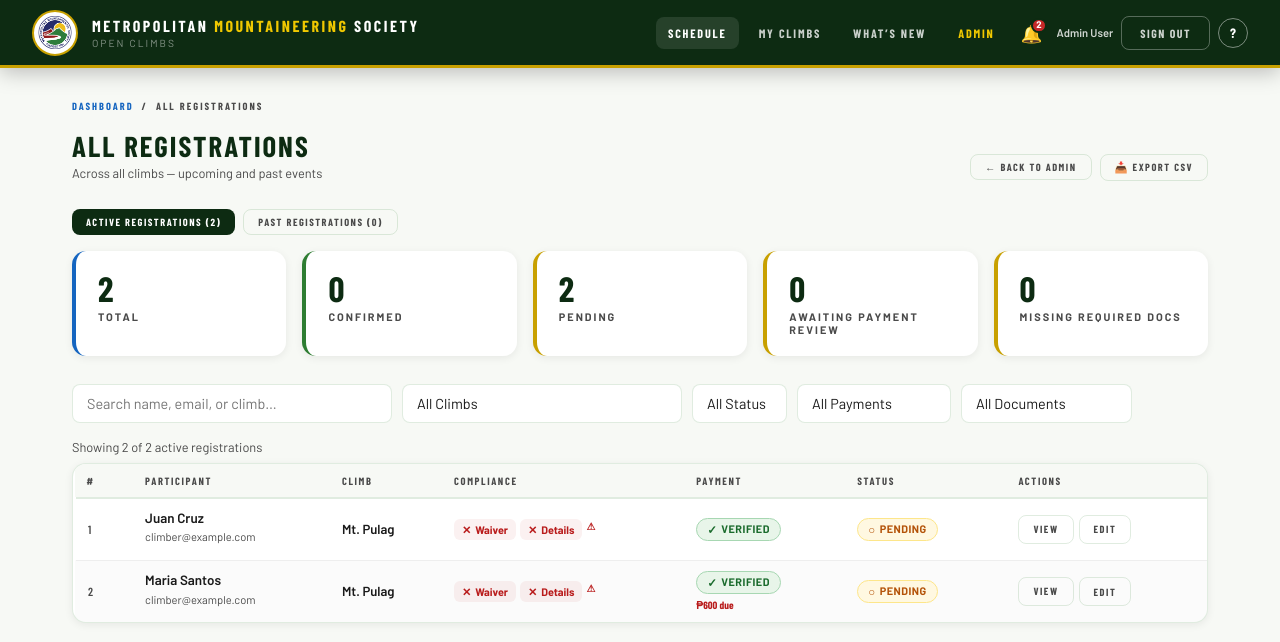
Test: Admin AllRegistrations › 'Has Balance Due' catches an underpaid registrant even when marked verified
This screenshot has width=1280, height=642.
Expected: the text "Juan Cruz" is shown, top-left (145, 510), bottom-right (204, 526)
Expected: the text "Maria Santos" is shown, top-left (145, 572), bottom-right (221, 588)
Select "Has Balance Due" in the 3rd dropdown with class "form-select" at [874, 404], box top-left (797, 384), bottom-right (951, 423)
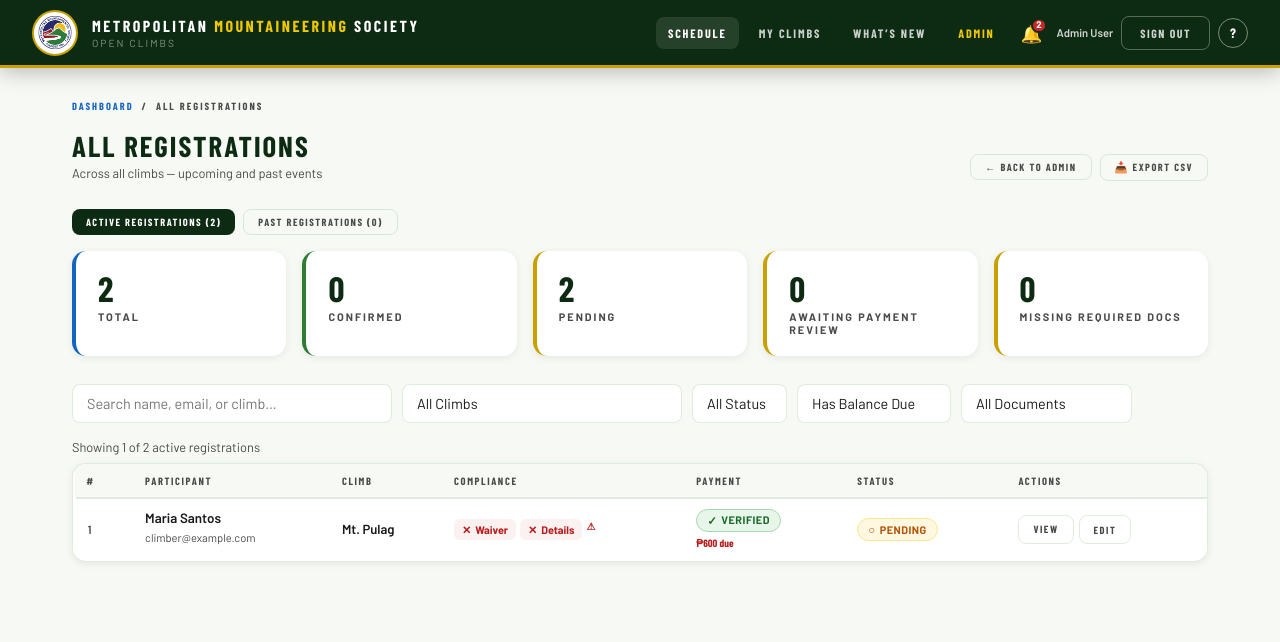
Expected: the text "Maria Santos" is shown, top-left (145, 510), bottom-right (221, 526)
Expected: the text "Juan Cruz" is gone
